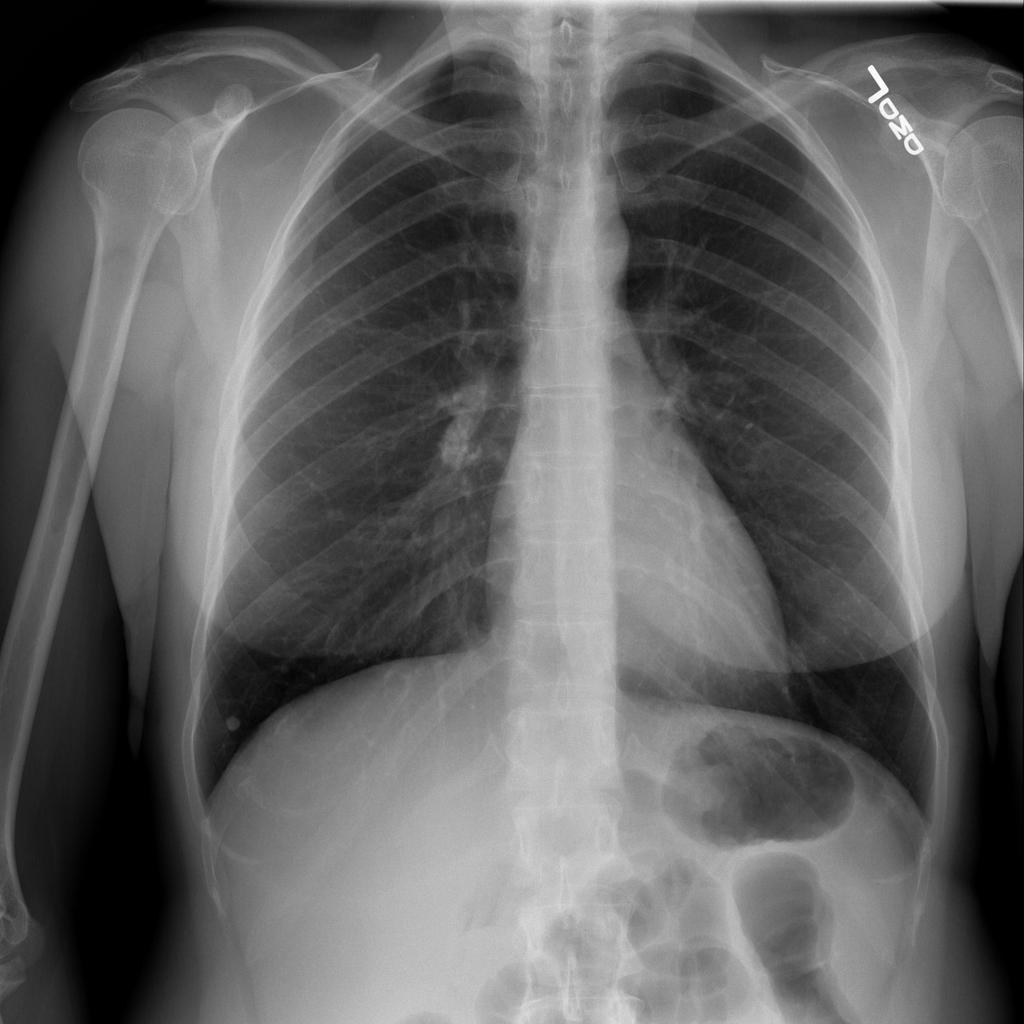nodule: (207, 696, 255, 747)
